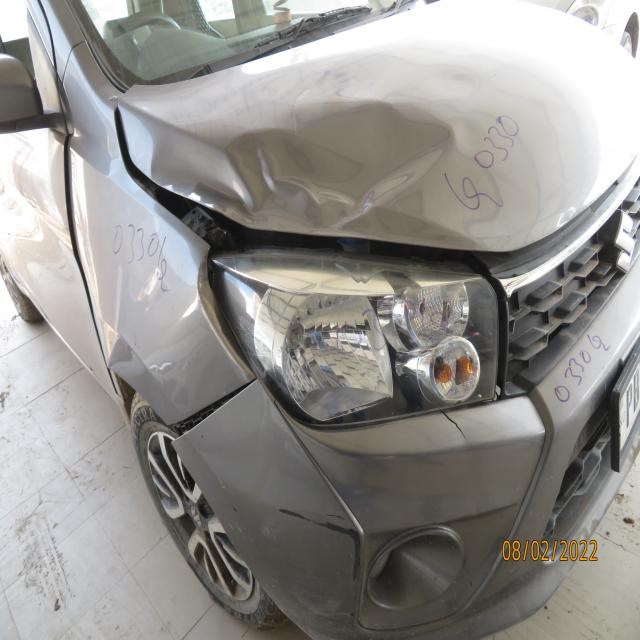damage: (198, 99, 468, 245), (107, 198, 203, 394), (170, 375, 259, 443), (436, 402, 471, 444)
